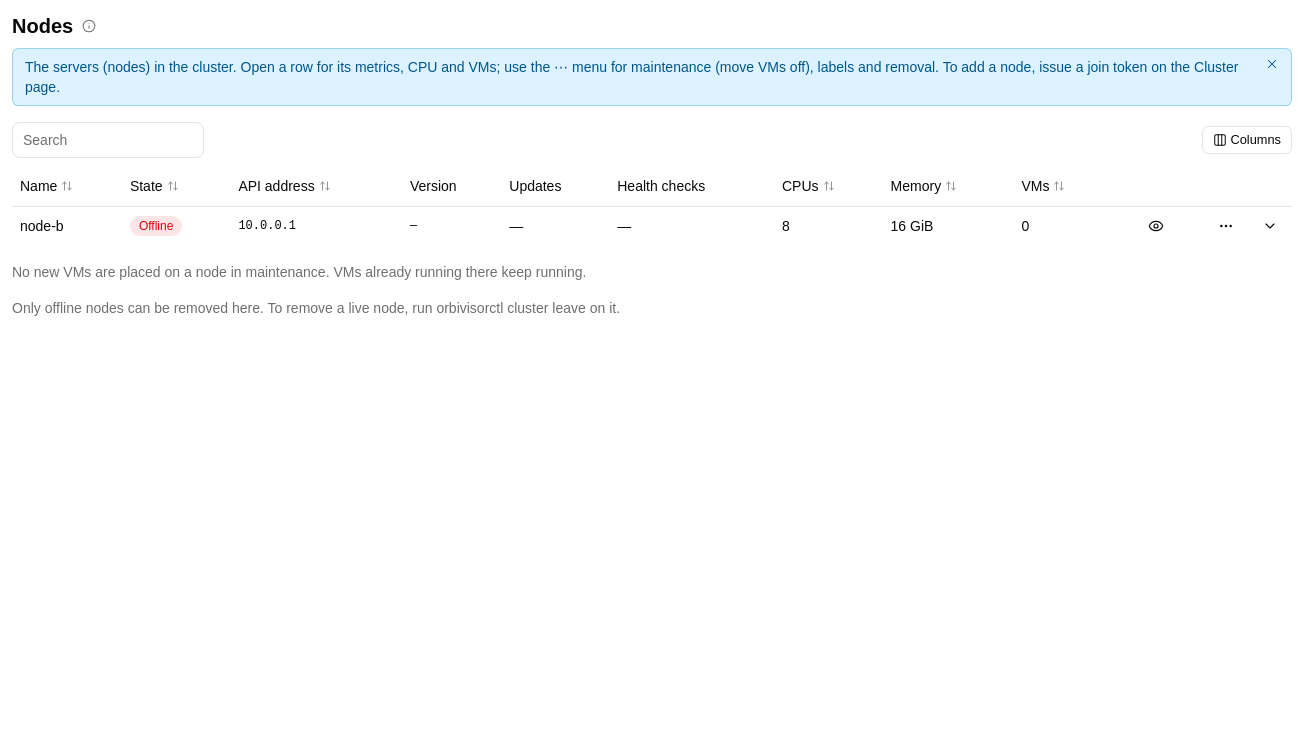
Scenario: says why maintenance could not change
Click the button named "Actions for node-b" at (1226, 226), box [1212,212,1240,240]
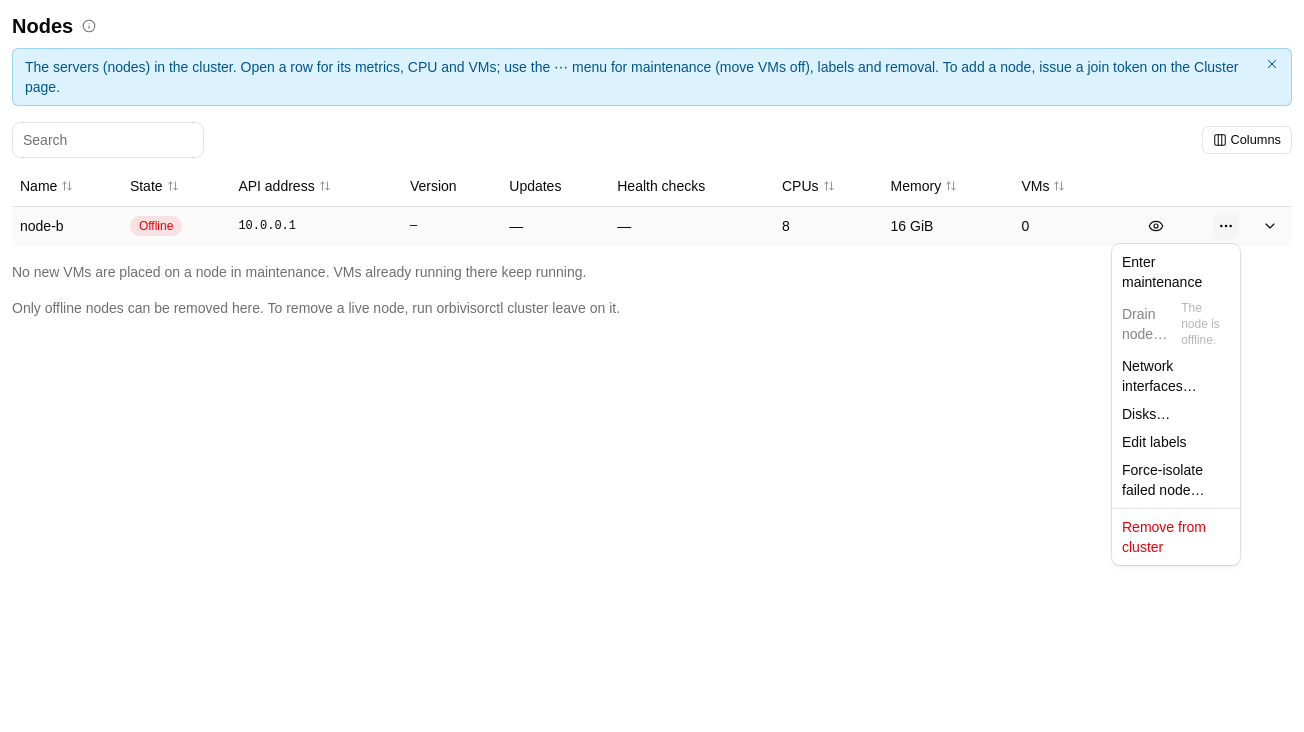
Click the menu item "Enter maintenance" at (1162, 272), box [1122,254,1202,290]
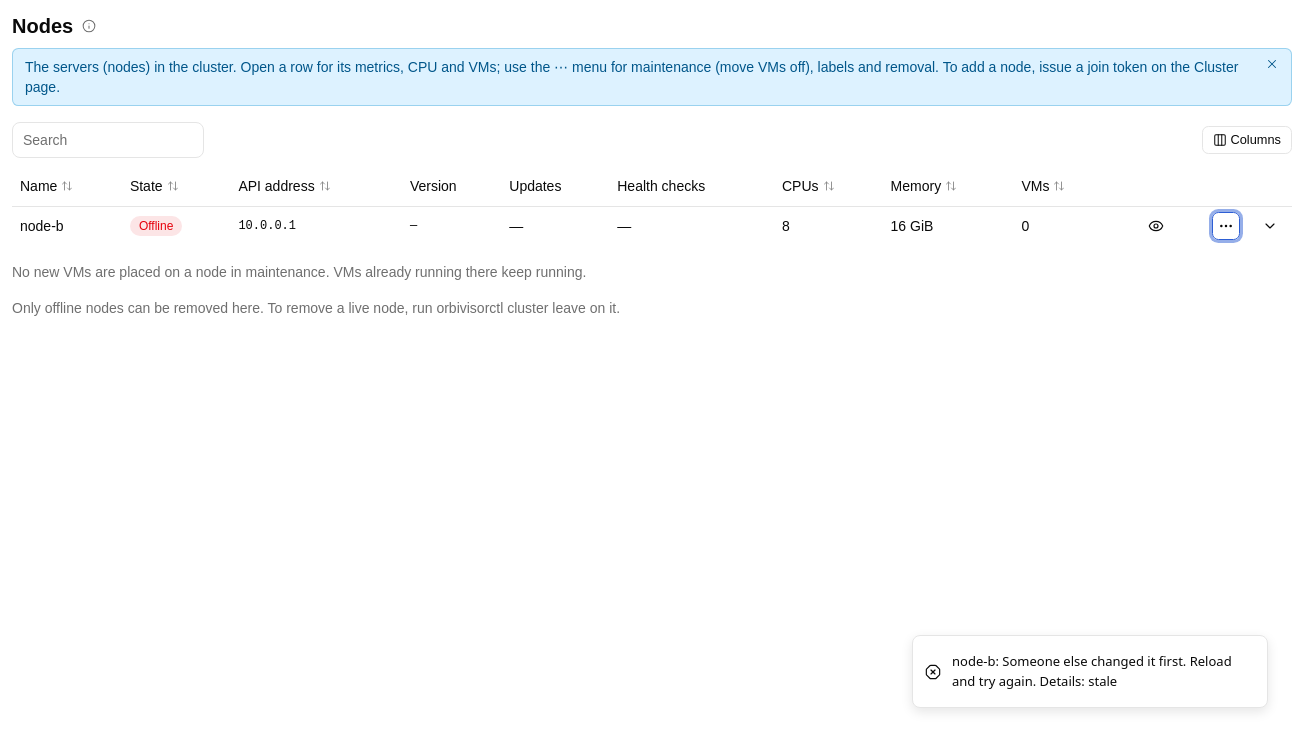
Expected: the text "node-b: Someone else changed it first. Reload and try again. Details: " is shown, [952,652,1232,690]
